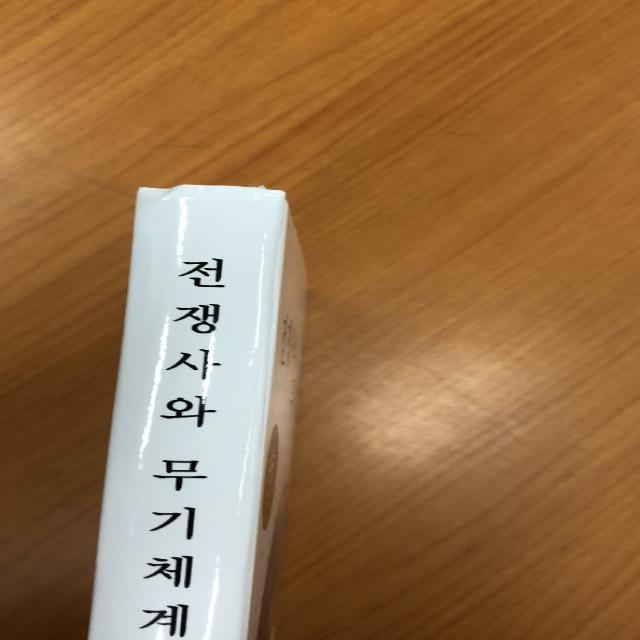Wornout: (240, 181, 301, 198)
